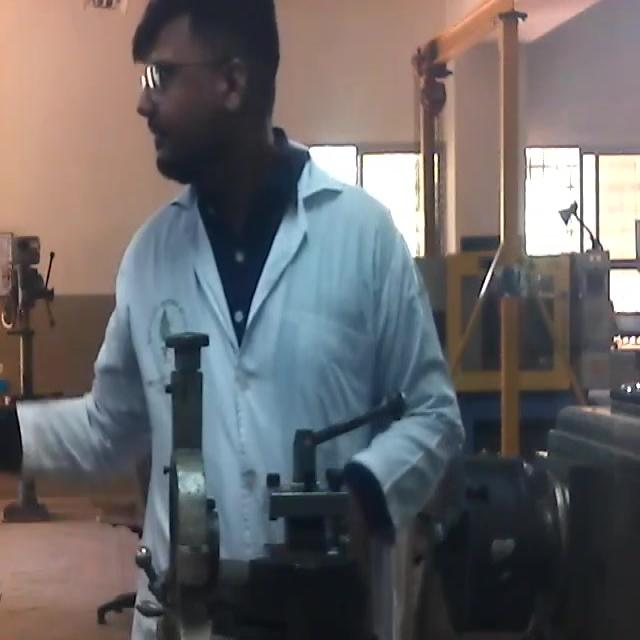labcoat: (12, 133, 464, 640)
